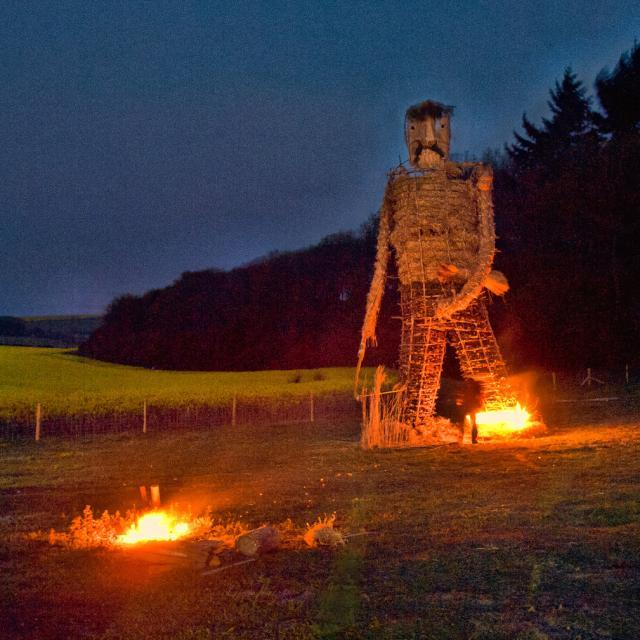Fire: (472, 397, 530, 433), (128, 508, 182, 546)
